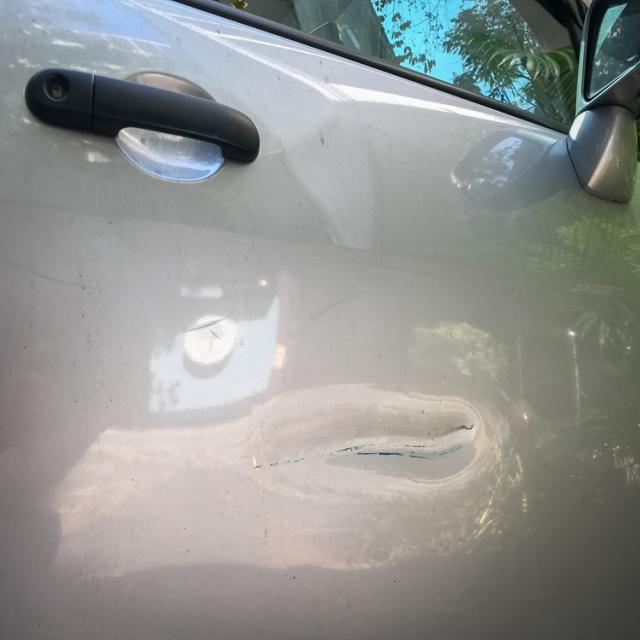dent: (248, 393, 482, 492), (288, 100, 386, 252)
